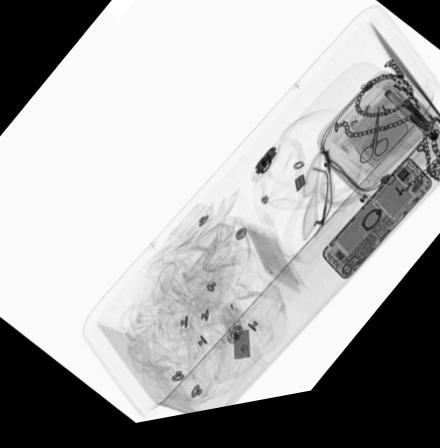Scissors: (358, 118, 390, 178)
